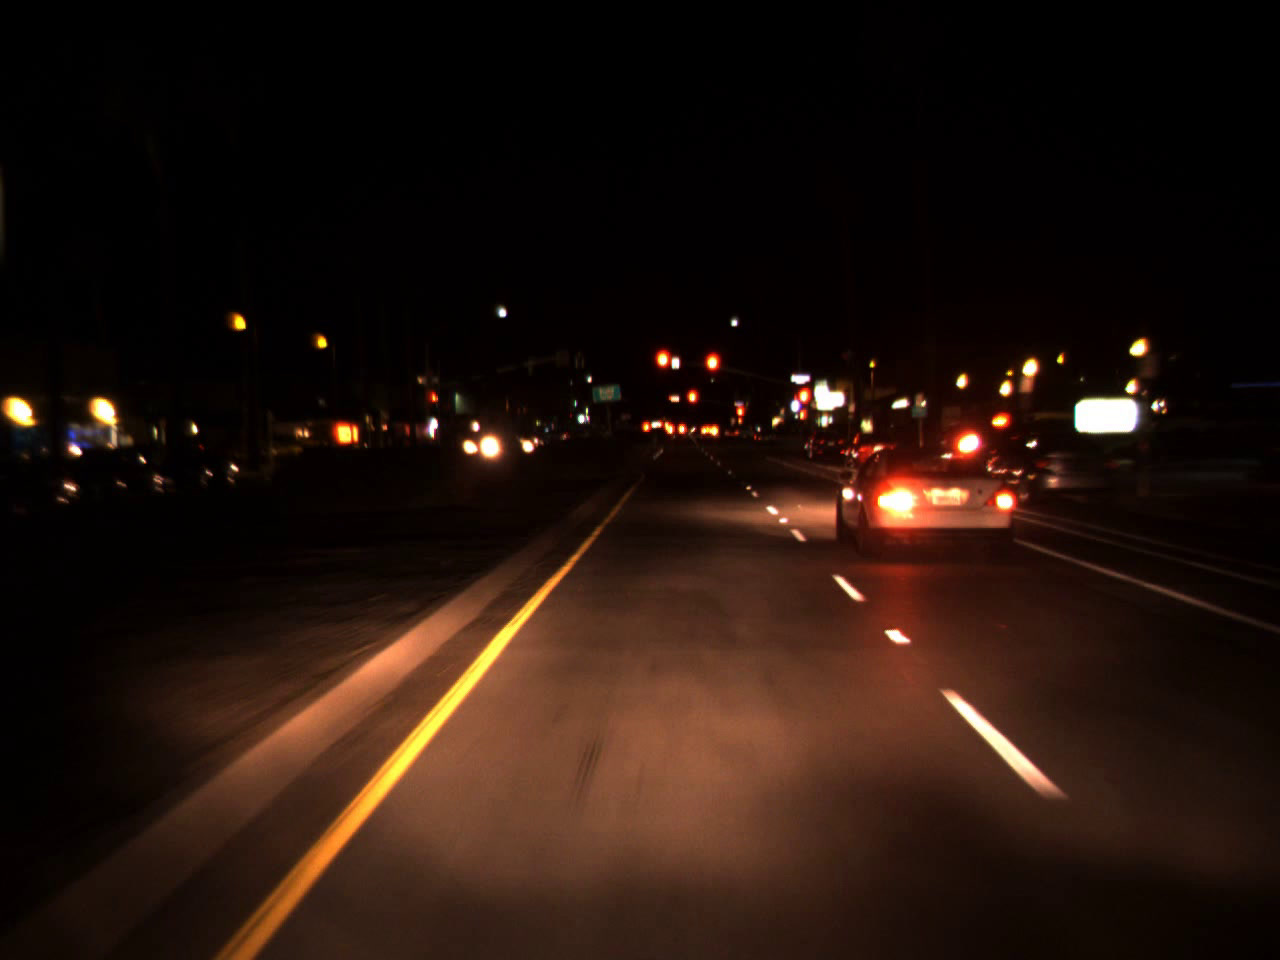stop: (790, 384, 814, 427), (652, 346, 673, 391), (702, 350, 723, 393), (428, 389, 440, 416), (687, 389, 697, 416), (735, 403, 745, 430)
